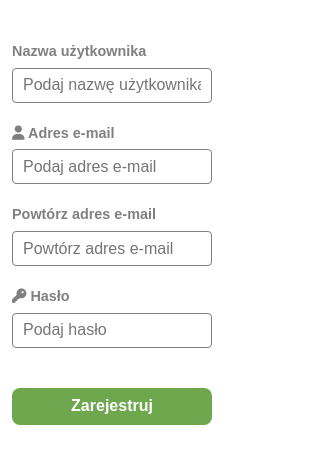
RegisterForm › pokazuje błędy walidacji dla niepoprawnych danych
Type "zlyemail" into the field with placeholder "Podaj adres e-mail".
click(112, 167); type("zlyemail")  # box [12,149,212,184]
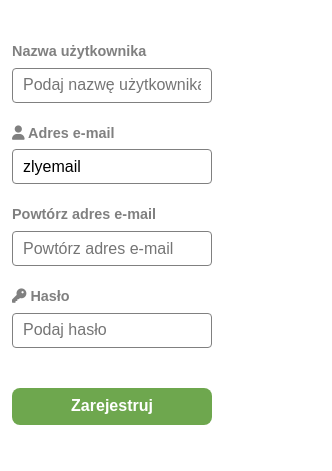
Type "inny@email.com" into the field with placeholder "Powtórz adres e-mail".
click(112, 248); type("inny@email.com")  # box [12,231,212,266]
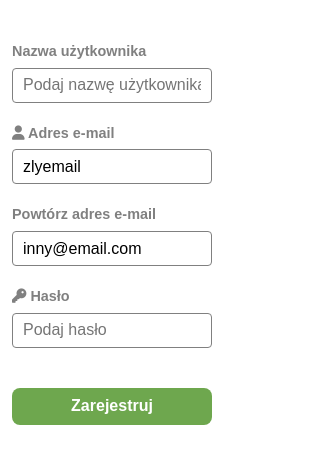
Type "123" into the password field with placeholder "Podaj hasło".
click(112, 330); type("123")  # box [12,313,212,348]
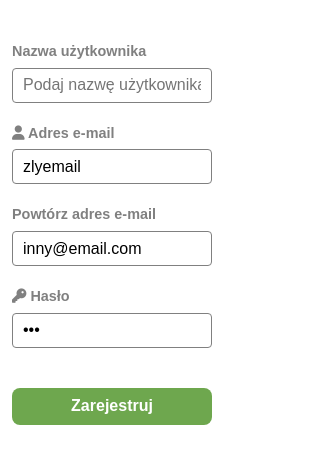
Click the button "Zarejestruj".
click(112, 406)  # box [12,388,212,425]
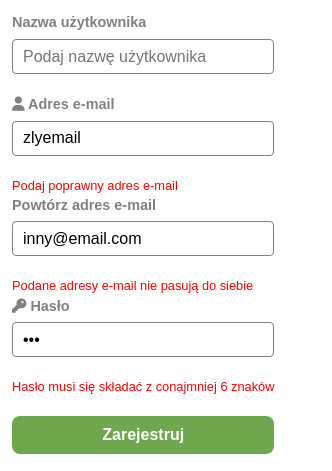
Check: the text "Podaj poprawny adres e-mail" is shown, box [12,178,178,193]
Check: the text "Podane adresy e-mail nie pasują do siebie" is shown, box [12,276,274,296]
Check: the text "Hasło musi się składać z conajmniej 6 znaków" is shown, box [12,377,274,396]
